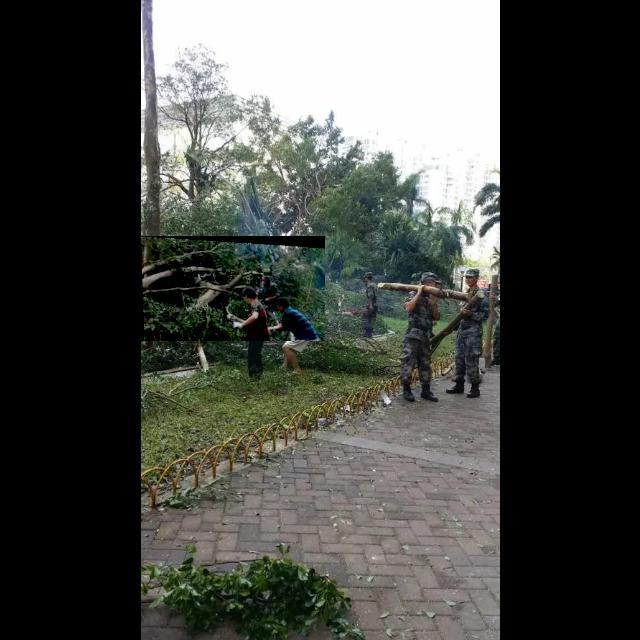fallen_tree: (140, 236, 326, 342)
